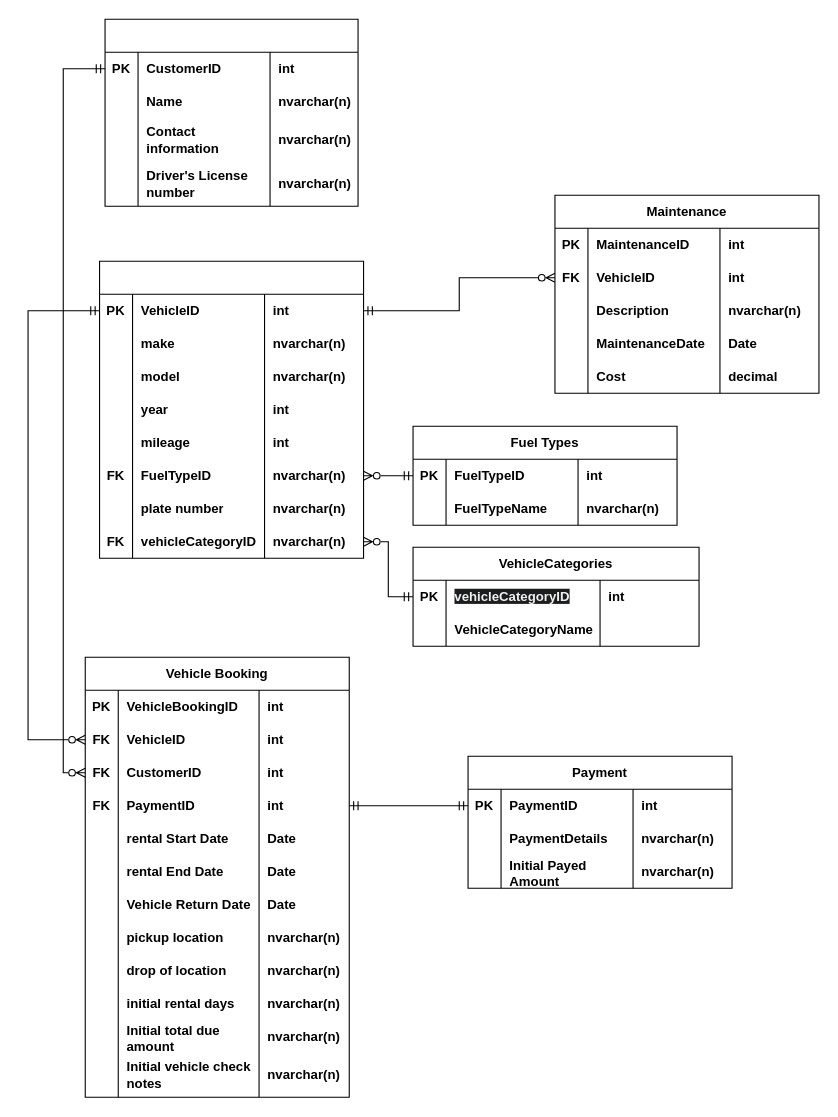
Some shapes in this 838 by 1117 pixel diagram are drawn without their labels. The box of each missing label's shape, as (x1, y1, x2, y2) in pixels:
Customers: (104, 18, 358, 206)
Vehicles: (98, 260, 364, 558)
